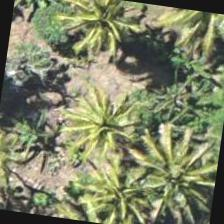Kelapa_Sawit: (50, 74, 152, 176), (125, 126, 222, 223), (49, 0, 148, 71), (0, 99, 64, 198)
